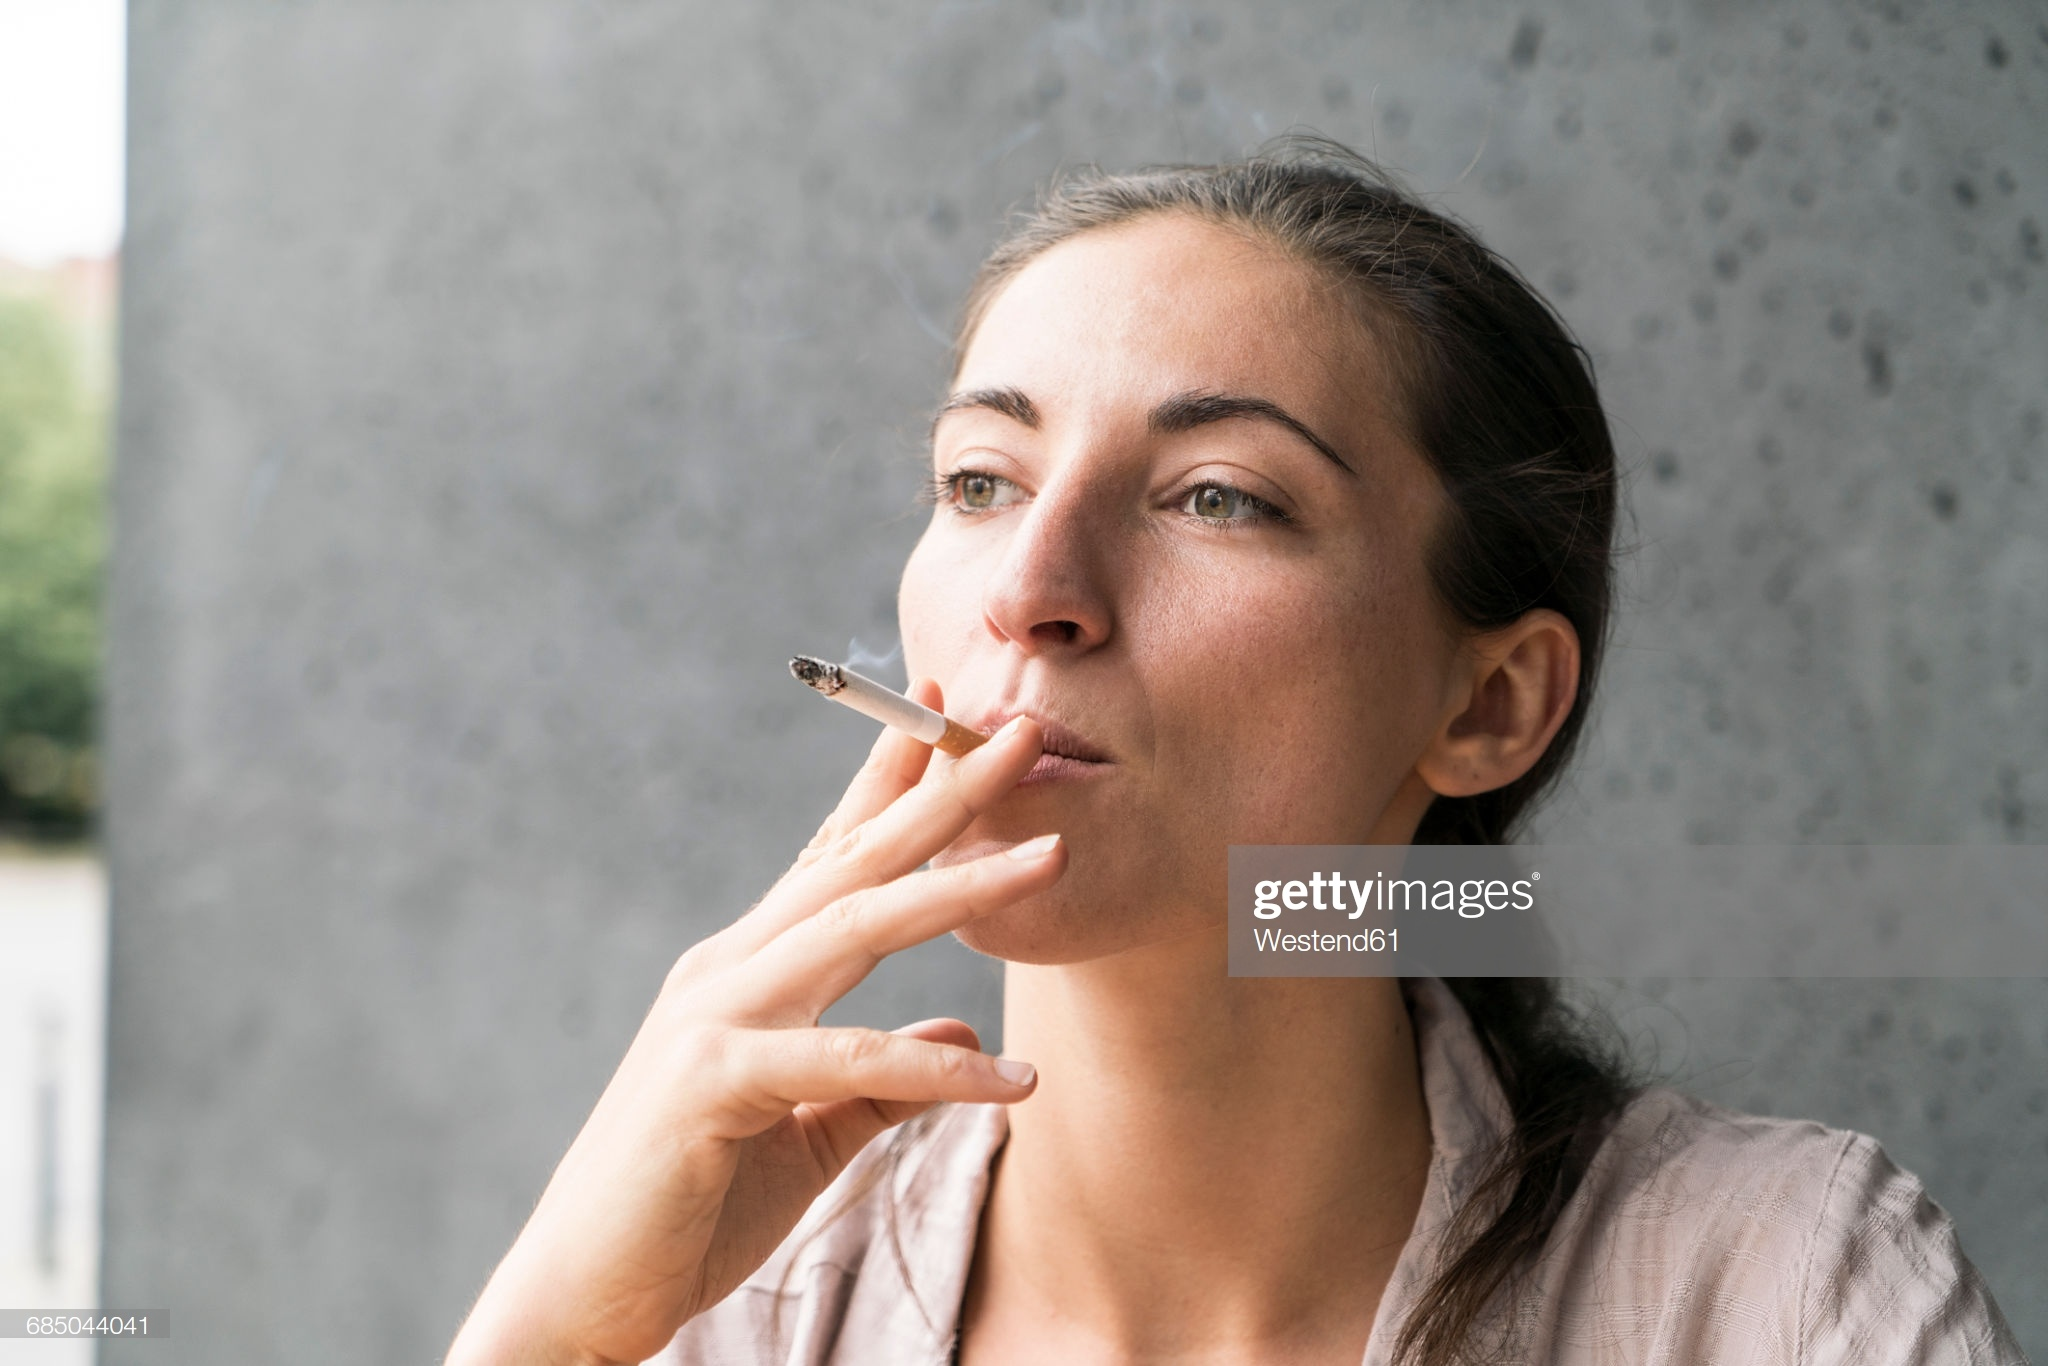sigaretta: (795, 649, 1000, 768)
